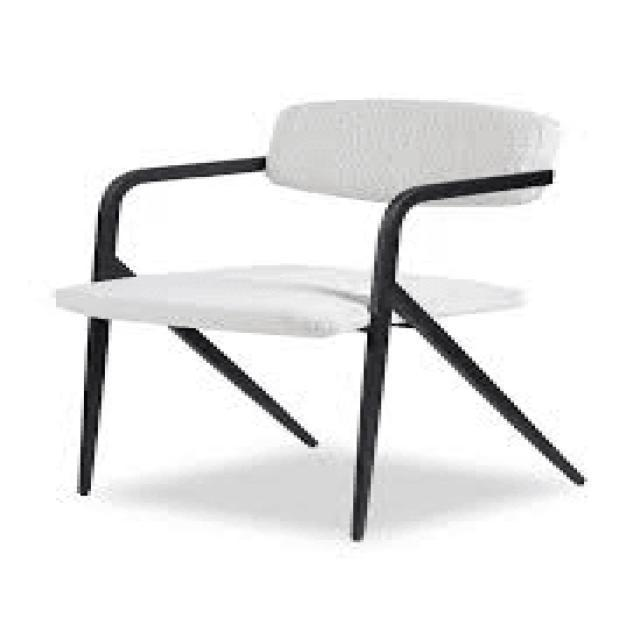chair: (45, 93, 587, 546), (51, 98, 560, 328)
